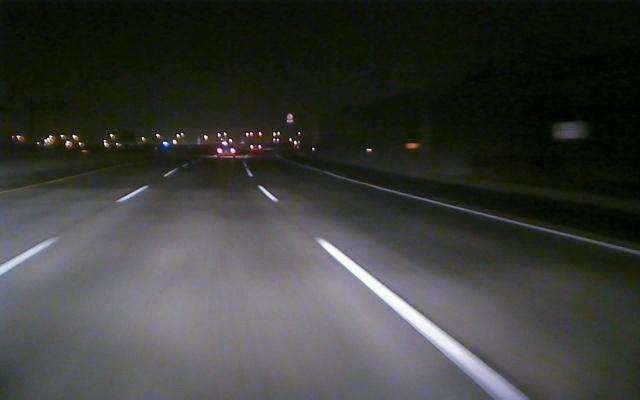lane: (254, 183, 529, 399), (345, 175, 640, 258), (2, 174, 167, 274)
